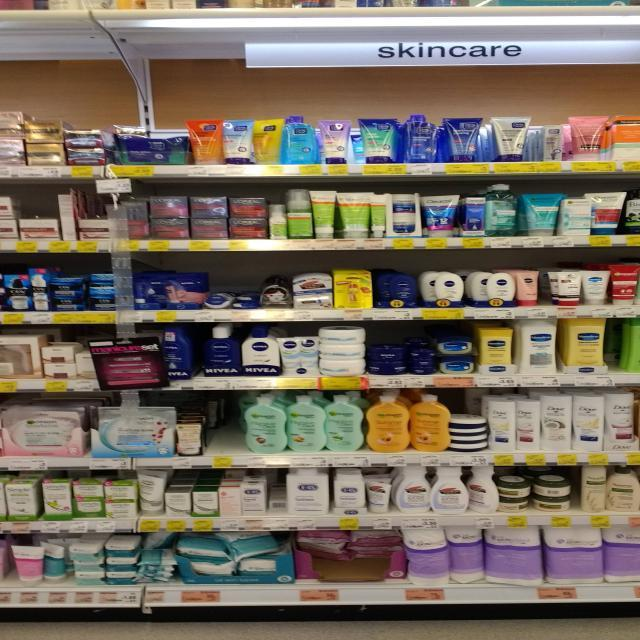empty: (216, 414, 238, 466)
